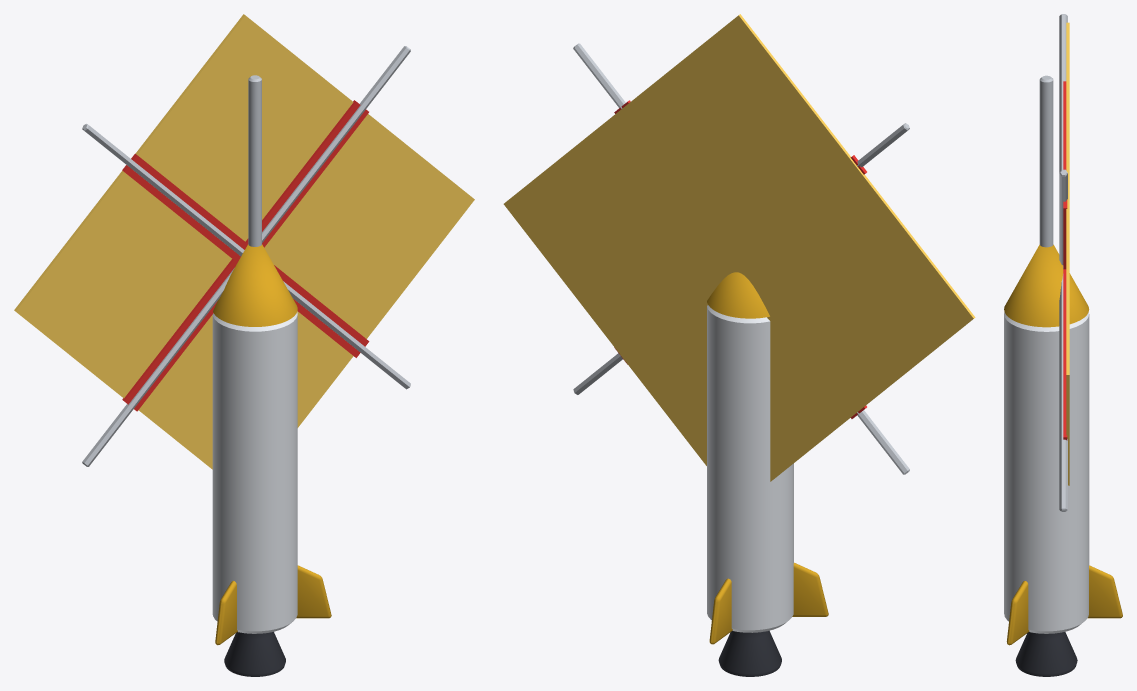
The model's file is Rocket_28_SolarSail.fbx.
The picture shows the model from 3 angles, left to right: view 1: azimuth 30°, elevation 25°; view 2: azimuth 150°, elevation 25°; view 3: azimuth 270°, elevation 25°; orthographic projection. The views are drawn at different scales.
Parts seen in each view (by area): view 1: R28_Sail, R28_Body, R28_Nose, R28_SailStripe_2, R28_SailStripe, R28_Mast, R28_Nozzle, R28_Boom, R28_Boom_3, R28_Boom_2, R28_Fin_3, R28_Boom_4 (+1 smaller); view 2: R28_Sail, R28_Body, R28_Nozzle, R28_Nose, R28_Fin_2, R28_Fin, R28_Boom_3, R28_Boom; view 3: R28_Body, R28_Nose, R28_Mast, R28_Nozzle, R28_Sail, R28_Boom_4, R28_Fin, R28_SailStripe, R28_Fin_3, R28_Boom_2, R28_Boom, R28_SailStripe_2.
Part boxes in pixels (x1,y1,x2,y2): R28_Sail: (14, 14, 474, 469); R28_Body: (212, 312, 297, 633); R28_Nose: (213, 244, 297, 326); R28_SailStripe_2: (122, 100, 368, 411); R28_SailStripe: (122, 153, 369, 357); R28_Mast: (248, 75, 261, 246); R28_Nozzle: (224, 632, 285, 676); R28_Boom: (262, 46, 410, 242); R28_Boom_3: (82, 268, 234, 466); R28_Boom_2: (82, 123, 244, 256); R28_Fin_3: (296, 565, 331, 618); R28_Boom_4: (283, 281, 410, 389); R28_Sail: (503, 14, 975, 481); R28_Body: (707, 305, 793, 632); R28_Nozzle: (718, 630, 781, 676); R28_Nose: (707, 272, 769, 318); R28_Fin_2: (792, 562, 828, 616); R28_Fin: (709, 578, 732, 644); R28_Boom_3: (857, 410, 909, 474); R28_Boom: (573, 43, 625, 108); R28_Body: (1004, 312, 1089, 633); R28_Nose: (1004, 244, 1089, 327); R28_Mast: (1039, 75, 1053, 247); R28_Nozzle: (1015, 632, 1077, 676); R28_Sail: (1066, 22, 1069, 485); R28_Boom_4: (1059, 265, 1067, 511); R28_Fin: (1088, 565, 1122, 618); R28_SailStripe: (1063, 81, 1067, 440); R28_Fin_3: (1006, 581, 1029, 645); R28_Boom_2: (1059, 14, 1067, 172); R28_Boom: (1059, 169, 1067, 264); R28_SailStripe_2: (1063, 199, 1067, 269).
Bounding box in the file's own units: 6.22 × 8.31 × 1.4.
